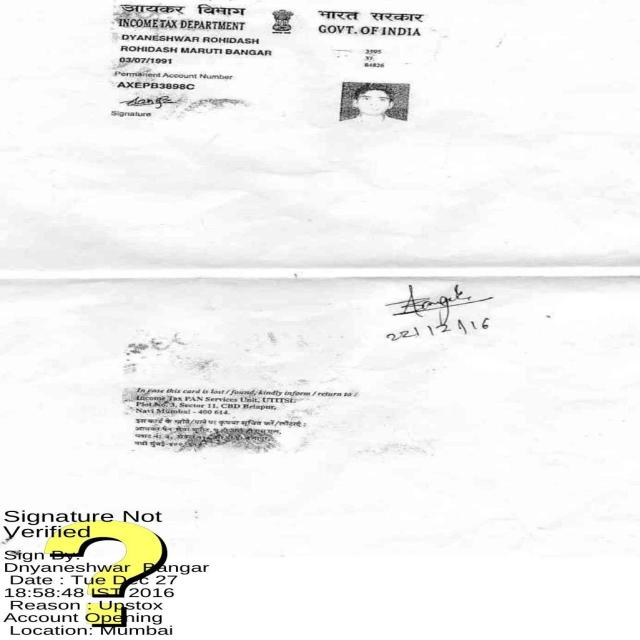pan_card: (106, 0, 440, 136), (123, 340, 398, 461)
